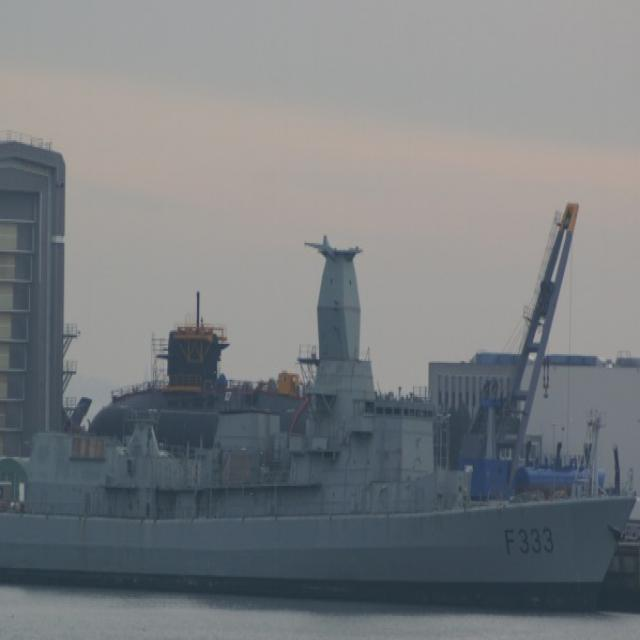Fragata: (1, 241, 640, 610)
